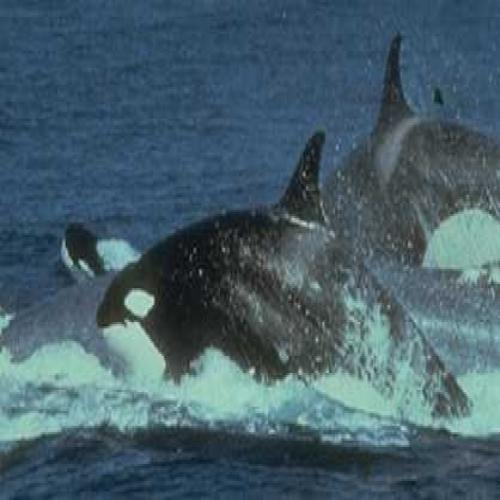killer_whale-endangered: (97, 132, 470, 425), (299, 27, 500, 304), (42, 180, 158, 304)
